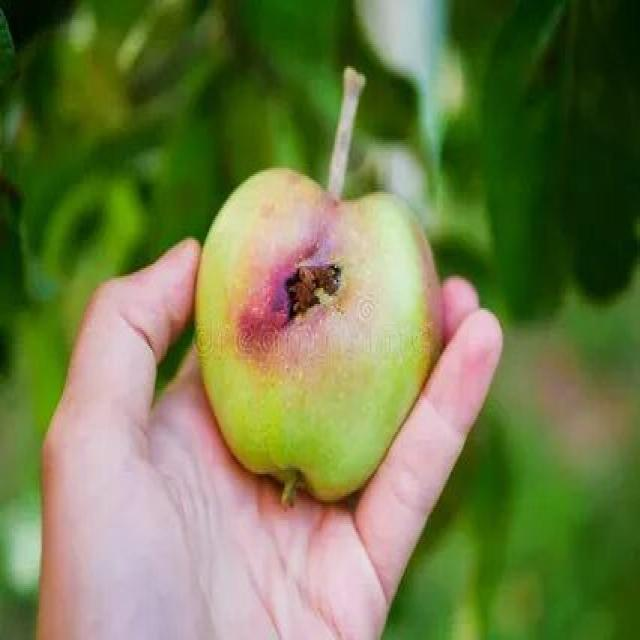Rotten Apple: (193, 164, 441, 500)
